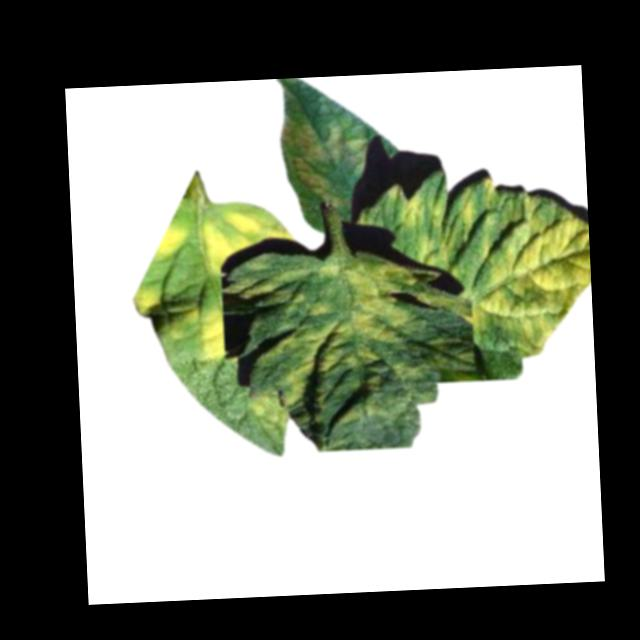Leaf_Mold: (391, 178, 592, 364), (232, 250, 422, 409), (278, 110, 368, 208), (201, 200, 298, 274), (196, 304, 227, 362), (151, 218, 190, 259), (130, 279, 159, 314)
